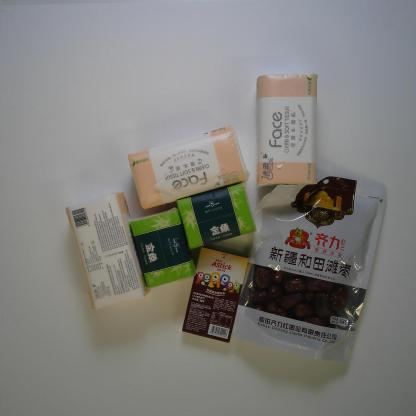Dessert: (181, 243, 250, 349)
Dried Food: (230, 178, 390, 364)
Tissue: (126, 125, 250, 209), (65, 190, 149, 312), (255, 72, 322, 190), (128, 206, 196, 292), (176, 182, 259, 250)
